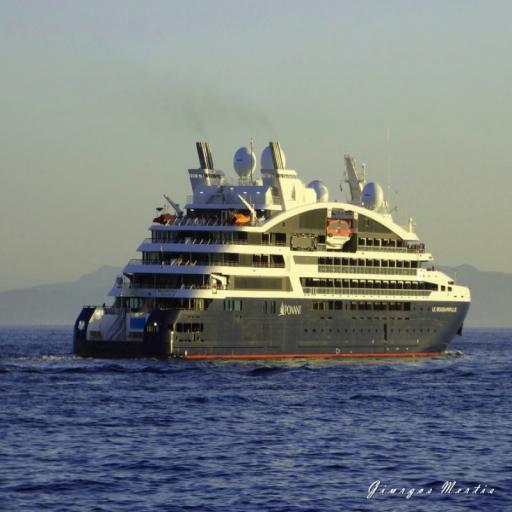cruises: (70, 139, 473, 366)
